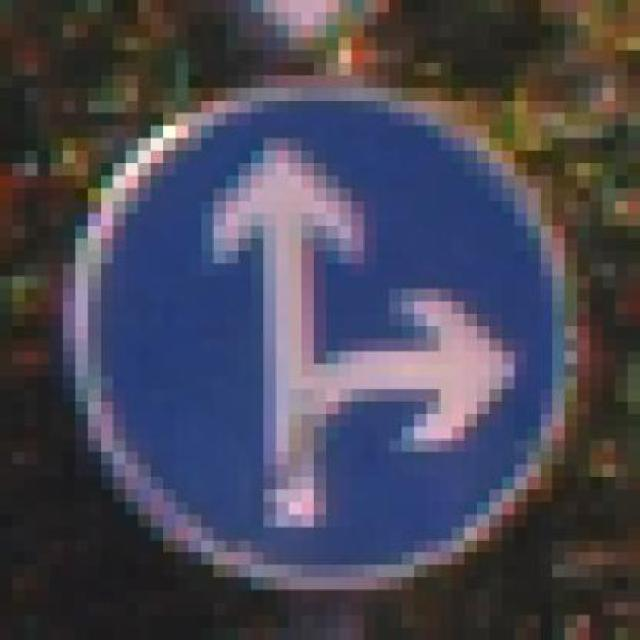Go Straight or Turn Right: (62, 88, 590, 603)
